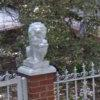Statue: (13, 10, 62, 81)
